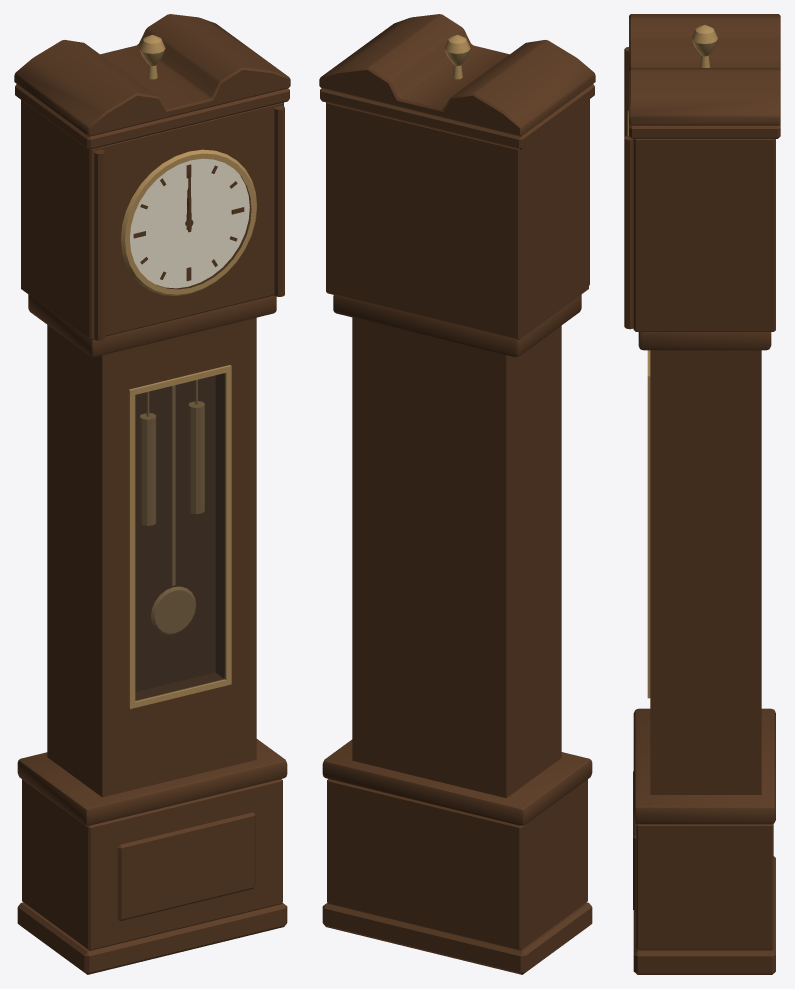
The model's file is grandfather_clock.glb.
The picture shows the model from 3 angles, left to right: view 1: azimuth 30°, elevation 25°; view 2: azimuth 150°, elevation 25°; view 3: azimuth 270°, elevation 25°; orthographic projection.
Visible parts, largest first — view 1: grandfather_clock, pendulum; view 2: grandfather_clock; view 3: grandfather_clock.
Part boxes in pixels (<box>): grandfather_clock: <box>14,14,290,974</box>; pendulum: <box>151,385,196,634</box>; grandfather_clock: <box>319,14,595,974</box>; grandfather_clock: <box>624,14,780,974</box>.
Bounding box in the file's own units: 0.5 × 2.1 × 0.33.
